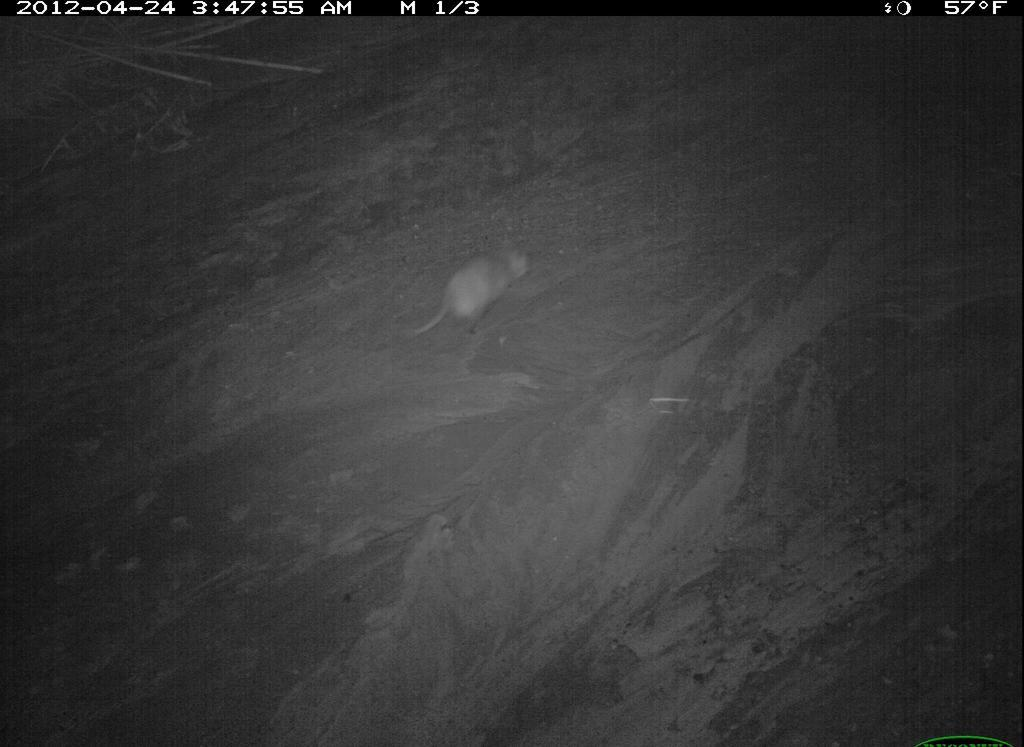opossum: (803, 482, 1024, 688)
